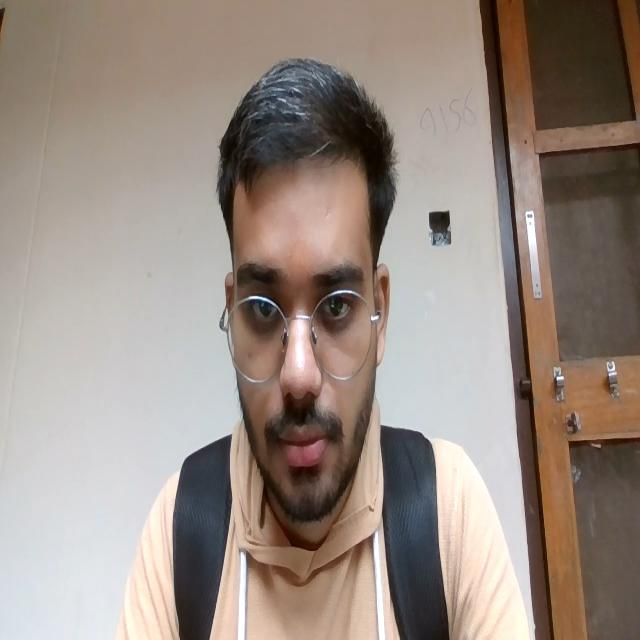awake: (233, 265, 375, 476)
